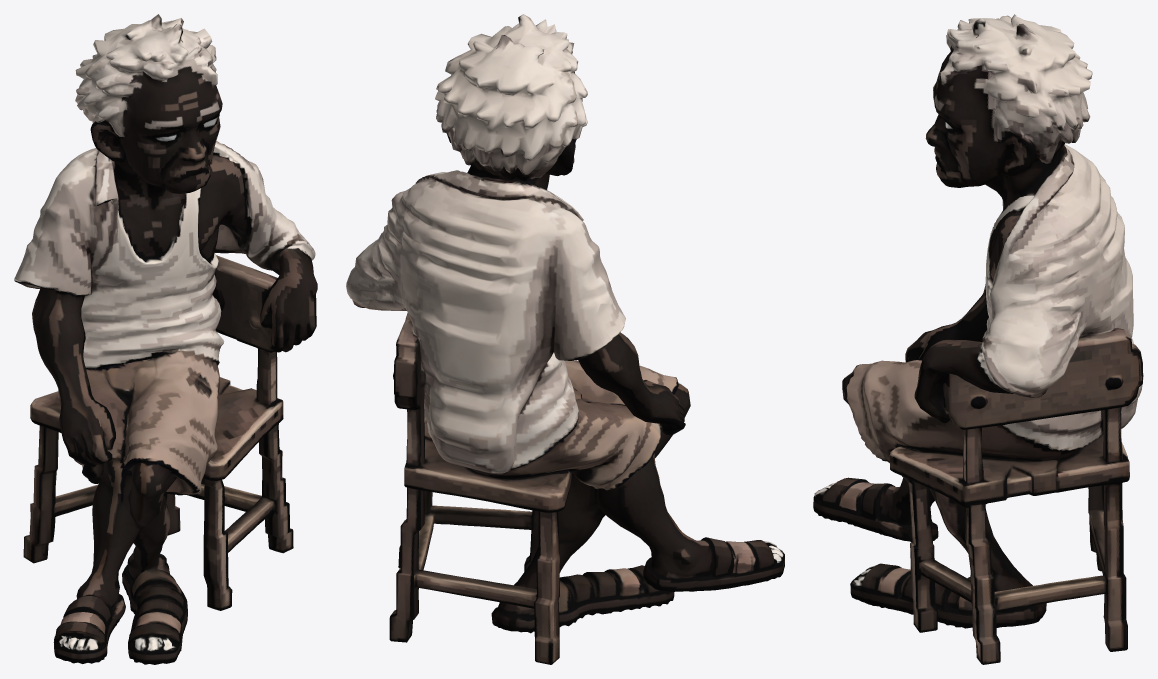
The model's file is elder1.glb.
3 renders of one model, left to right at view 1: azimuth 30°, elevation 25°; view 2: azimuth 150°, elevation 25°; view 3: azimuth 270°, elevation 25°, orthographic. The views are drawn at different scales.
Visible parts, largest first — view 1: tripo_node_72b91486-2782-4810-b56c-61e801be9baa; view 2: tripo_node_72b91486-2782-4810-b56c-61e801be9baa; view 3: tripo_node_72b91486-2782-4810-b56c-61e801be9baa.
Boxes of the visible parts, x1,y1,x2,y2 form: tripo_node_72b91486-2782-4810-b56c-61e801be9baa: [14, 14, 317, 664]; tripo_node_72b91486-2782-4810-b56c-61e801be9baa: [346, 14, 784, 664]; tripo_node_72b91486-2782-4810-b56c-61e801be9baa: [813, 14, 1143, 664].
Size of the model in its own units: 0.5891 by 0.9811 by 0.4786.
Materials: 1 (1 with a texture image).
